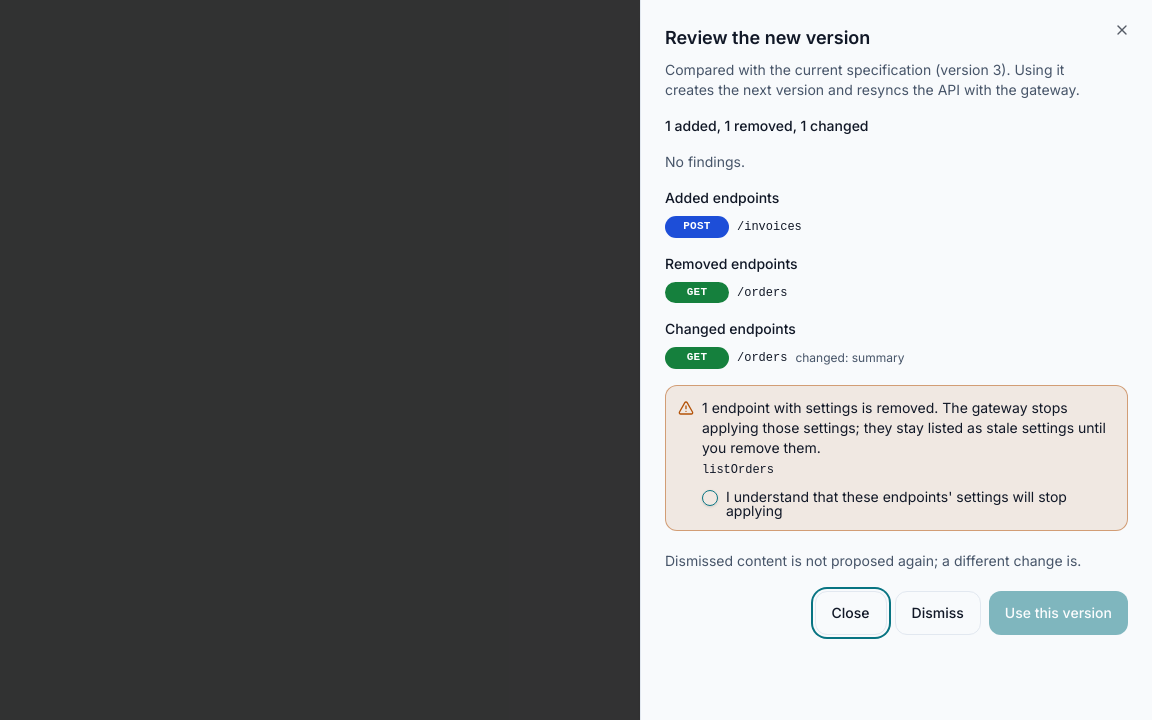
Test: SpecReviewSheet › a stale acknowledgement is cleared with the re-diff
Click the checkbox named "I understand that these endpoints' settings will stop applying": coordinates (710, 498) left=702, top=490, right=718, bottom=506
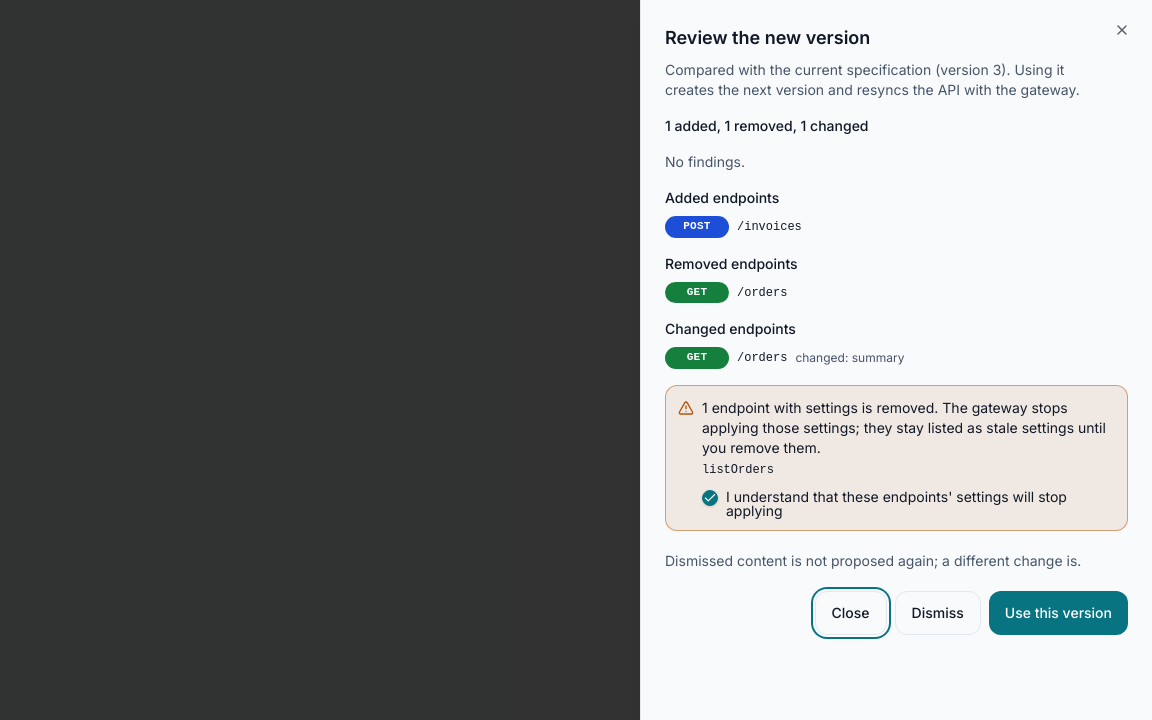
Click the button "Use this version": coordinates (1058, 613) left=989, top=591, right=1128, bottom=635
(page scrolled)
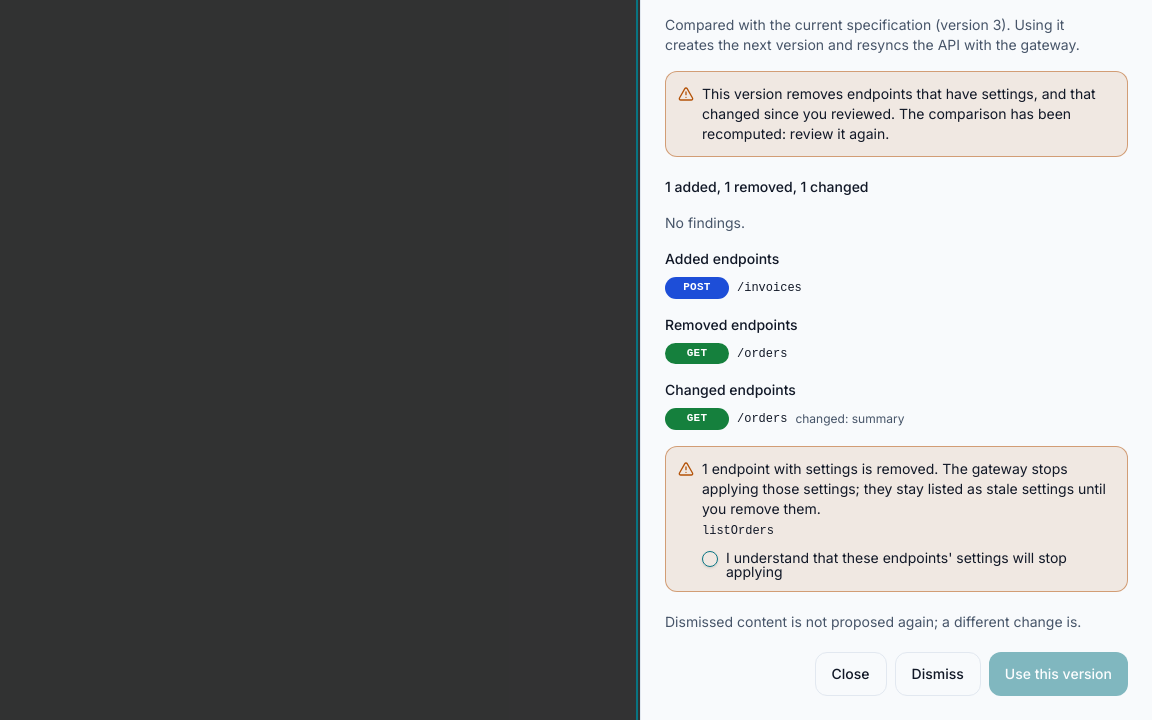
Expected: the 1st message is shown, left=665, top=71, right=1128, bottom=157
Expected: the button "Use this version" is disabled, left=989, top=652, right=1128, bottom=696
